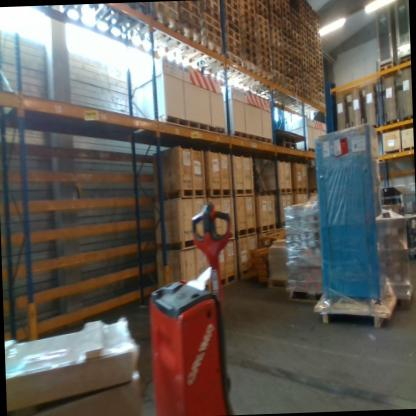pallet: (156, 234, 205, 253), (155, 186, 206, 203), (151, 8, 179, 33), (151, 2, 179, 24), (288, 288, 324, 305), (178, 6, 202, 30), (393, 288, 415, 312), (178, 23, 202, 45), (178, 15, 202, 37), (200, 2, 222, 26), (200, 11, 222, 34), (201, 20, 223, 42), (201, 27, 223, 48), (177, 1, 201, 20), (202, 37, 223, 58), (217, 269, 239, 289), (223, 1, 241, 22), (206, 185, 234, 198), (224, 33, 242, 53), (224, 25, 242, 45), (200, 0, 222, 16), (211, 228, 236, 242), (258, 187, 293, 197), (267, 276, 289, 291), (223, 11, 241, 29), (240, 6, 257, 25), (225, 50, 243, 67), (240, 22, 258, 39), (240, 14, 257, 32), (236, 225, 257, 239), (225, 43, 242, 60), (224, 18, 241, 35), (240, 0, 256, 18), (242, 59, 259, 75), (242, 38, 258, 54), (242, 52, 259, 67), (241, 31, 258, 46), (256, 12, 270, 30), (256, 5, 270, 23), (233, 186, 255, 197), (257, 222, 277, 234), (242, 45, 258, 60), (269, 6, 283, 23), (222, 0, 240, 13), (258, 47, 273, 62), (257, 34, 272, 49), (257, 27, 271, 43), (256, 0, 269, 17), (269, 11, 282, 28), (259, 67, 273, 82), (259, 61, 273, 76), (258, 55, 273, 69), (258, 41, 272, 56), (256, 21, 270, 36), (271, 37, 284, 53), (270, 18, 283, 34), (269, 0, 282, 16), (272, 56, 285, 71), (272, 50, 285, 65), (378, 62, 397, 72), (272, 63, 285, 77), (271, 32, 284, 46), (278, 142, 298, 151), (273, 68, 285, 83), (271, 25, 283, 40), (292, 185, 309, 195), (383, 117, 400, 127), (272, 44, 284, 58), (240, 0, 256, 10), (282, 22, 292, 38), (278, 135, 297, 143), (292, 34, 302, 49), (273, 76, 285, 88), (284, 76, 295, 89), (282, 29, 293, 42), (283, 41, 293, 55), (292, 28, 302, 42), (282, 16, 292, 30), (282, 10, 292, 24), (281, 4, 291, 18), (291, 18, 301, 32), (291, 12, 300, 27), (284, 71, 295, 83), (284, 65, 295, 77), (269, 0, 281, 11), (398, 56, 411, 66), (400, 113, 413, 123), (284, 59, 294, 72), (284, 53, 294, 66), (284, 47, 294, 60), (283, 35, 293, 48), (281, 0, 291, 13), (294, 63, 303, 77), (293, 53, 303, 65), (299, 12, 307, 27), (293, 46, 302, 59), (293, 41, 302, 54), (292, 24, 301, 37), (291, 7, 300, 20), (301, 33, 309, 47), (299, 7, 307, 21), (285, 82, 295, 93), (295, 81, 304, 93), (295, 75, 304, 87), (302, 65, 311, 77), (302, 49, 310, 62), (301, 44, 309, 57), (300, 23, 308, 36), (300, 18, 308, 31), (307, 25, 315, 38), (294, 71, 304, 81), (295, 87, 304, 98), (300, 2, 307, 16), (304, 81, 312, 93), (303, 70, 311, 82), (302, 60, 310, 72), (302, 55, 310, 67), (301, 39, 309, 51), (308, 35, 316, 47), (308, 30, 315, 43), (294, 59, 302, 70), (304, 87, 312, 98), (303, 76, 311, 87), (299, 0, 307, 11), (308, 41, 316, 52), (301, 29, 308, 41), (310, 61, 317, 73), (309, 46, 316, 58), (307, 16, 314, 28), (306, 11, 313, 23), (306, 5, 313, 17), (304, 92, 312, 102), (316, 58, 324, 68), (312, 91, 319, 102), (309, 56, 316, 67), (309, 51, 316, 62), (305, 0, 312, 11), (315, 43, 322, 54), (314, 24, 321, 35), (314, 19, 321, 30), (313, 10, 320, 21), (311, 87, 319, 96), (317, 77, 325, 86), (316, 63, 324, 72), (311, 77, 318, 87), (310, 72, 317, 82), (310, 67, 317, 77), (317, 72, 324, 82), (317, 68, 324, 78), (316, 53, 323, 63), (316, 48, 323, 58), (307, 21, 314, 31), (315, 39, 322, 49), (313, 15, 320, 25), (311, 82, 318, 91), (318, 91, 325, 100), (315, 34, 321, 44), (315, 29, 321, 39), (318, 87, 325, 95), (318, 82, 325, 90), (319, 96, 325, 104)
pallet_truck: (136, 196, 250, 416)
